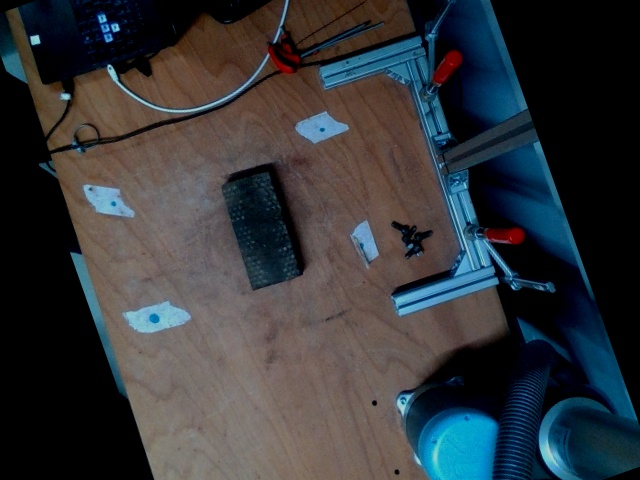brick: (219, 169, 298, 288)
